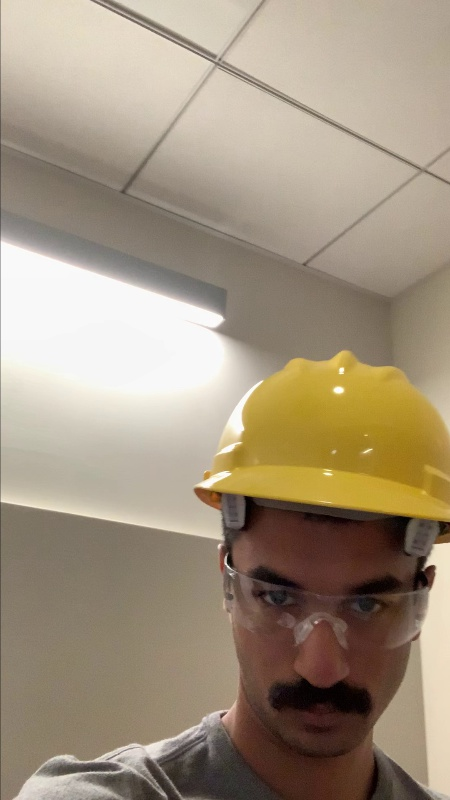glasses: (225, 560, 428, 647)
helmet: (214, 352, 447, 507)
